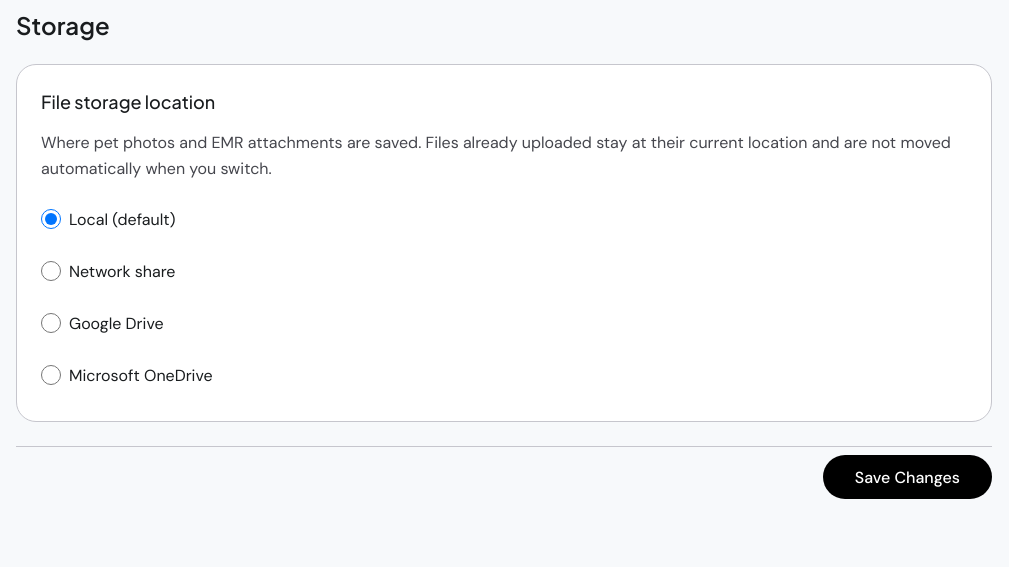
Test: StoragePage › renders the Google Drive radio option and a Connect button when not yet connected
The image size is (1009, 567).
Step 1. Click the radio button labelled "Google Drive" → [51, 323], box [41, 313, 61, 333]
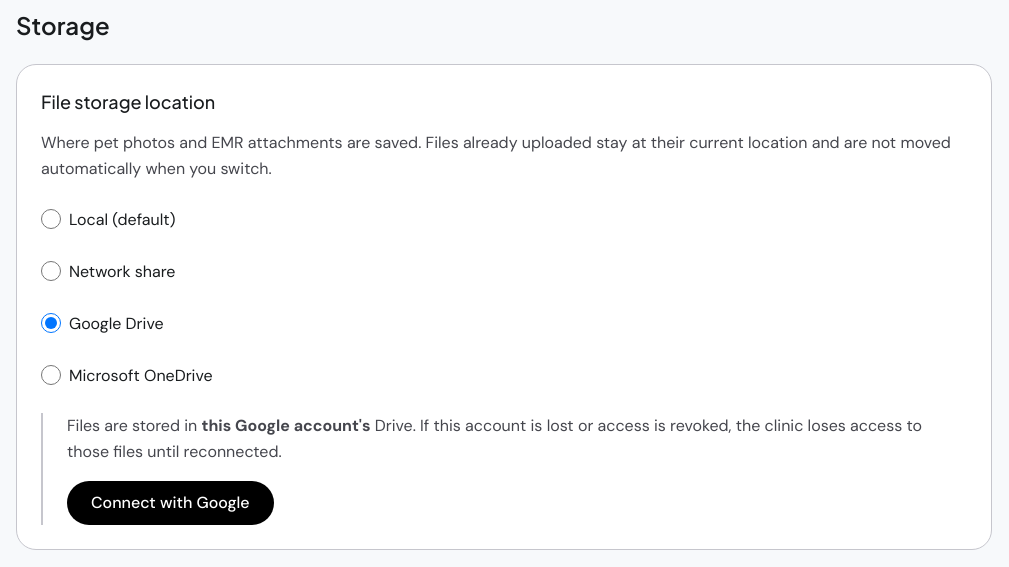
expect the button "Connect with Google" is shown: met, box [67, 481, 274, 525]
